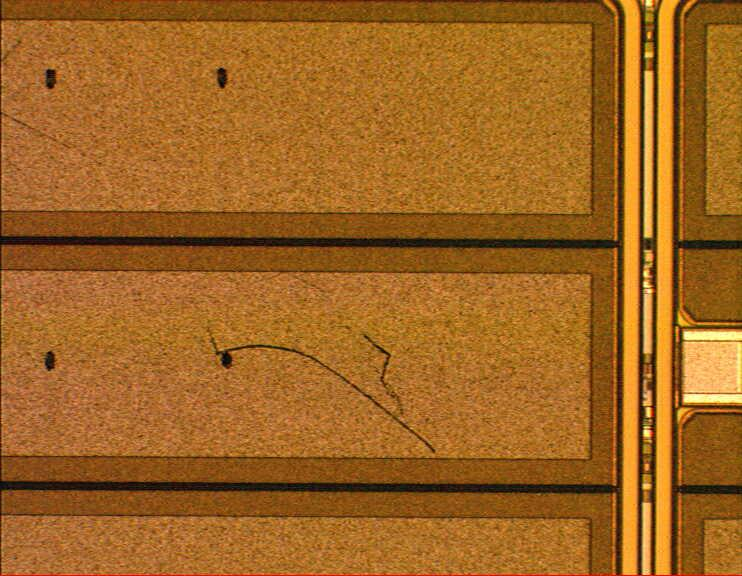SCRATCH: (1, 27, 451, 467)
